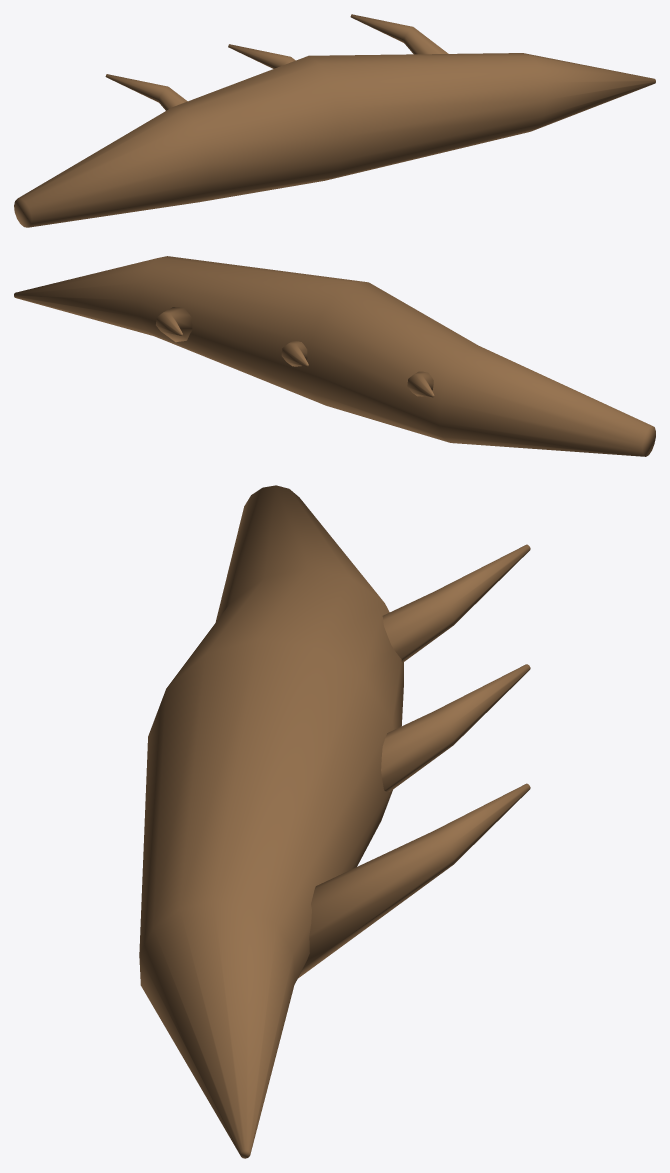
Rendered from CoastalDriftwood.fbx.
3 views of the same model, one above another, from view 1: azimuth 30°, elevation 25°; view 2: azimuth 150°, elevation 25°; view 3: azimuth 270°, elevation 25° (orthographic). The views are drawn at different scales.
Visible parts, largest first — view 1: Driftwood_Wood; view 2: Driftwood_Wood; view 3: Driftwood_Wood.
Boxes of the visible parts, left/top/right/bottom form: Driftwood_Wood: left=14, top=14, right=655, bottom=227; Driftwood_Wood: left=14, top=256, right=655, bottom=456; Driftwood_Wood: left=139, top=485, right=530, bottom=1158.
Size of the model in its own units: 511 by 89.56 by 138.
